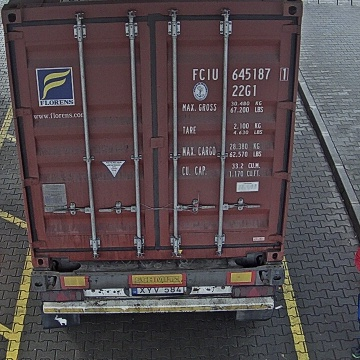serial_id: (192, 68, 287, 80)
